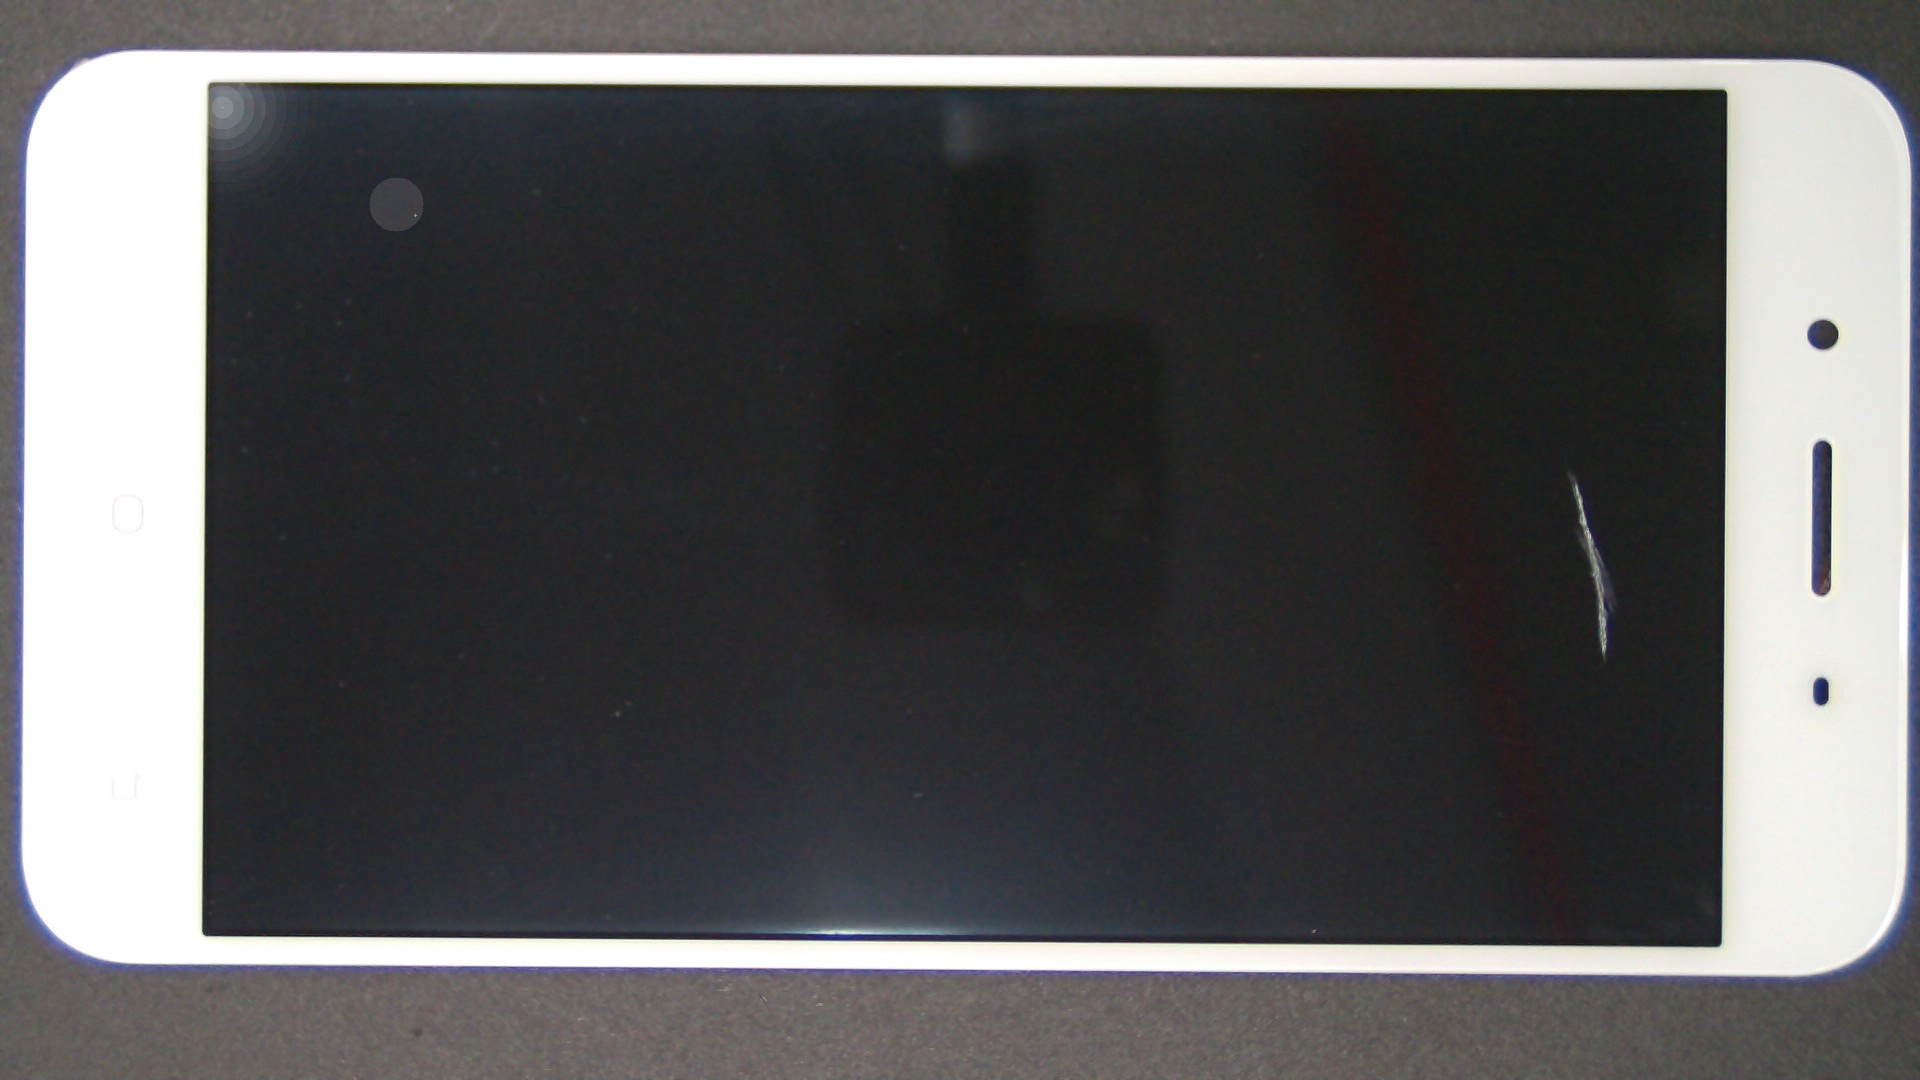oil: (785, 236, 1920, 709)
